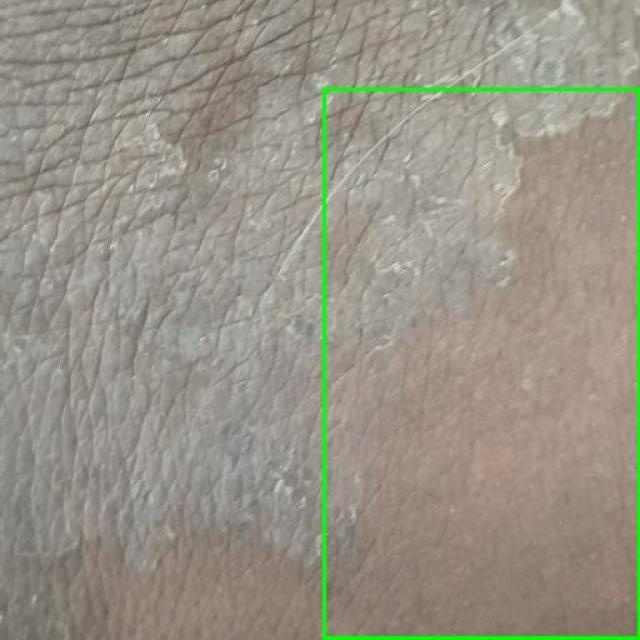Eczema: (324, 89, 639, 639)
